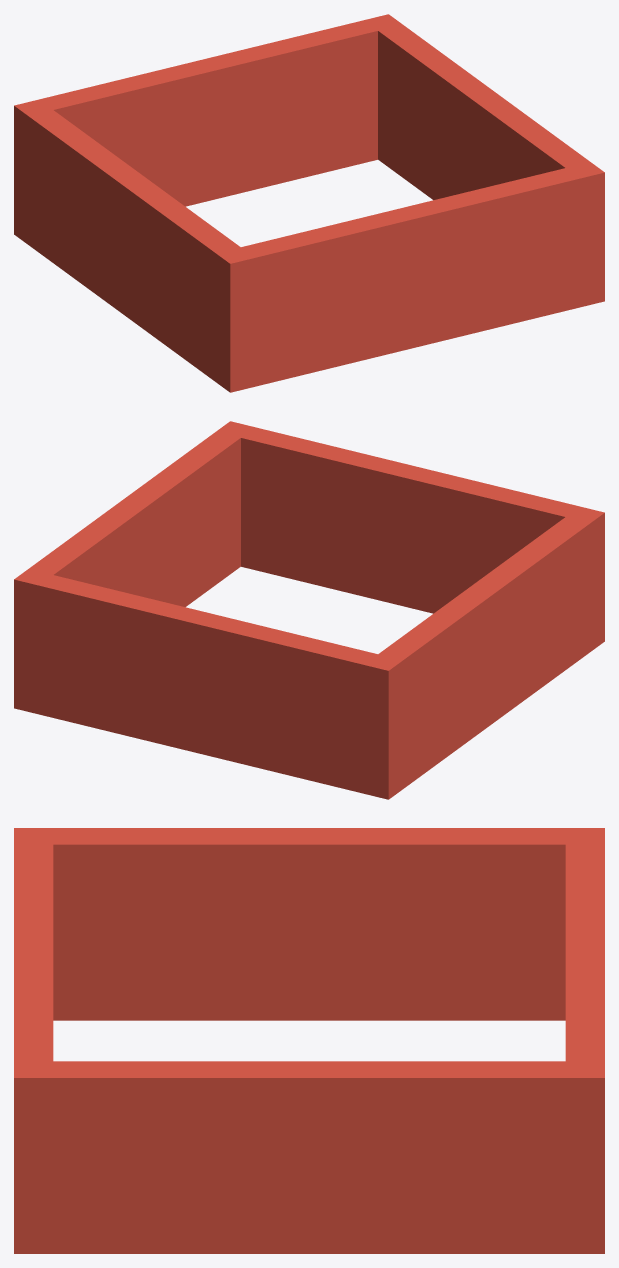
Rendered from pointer_red.obj.
3 renders of one model, top to bottom at view 1: azimuth 30°, elevation 25°; view 2: azimuth 150°, elevation 25°; view 3: azimuth 270°, elevation 25°, orthographic. The views are drawn at different scales.
Parts seen in each view (by area): view 1: Cube.002; view 2: Cube.002; view 3: Cube.002.
Part boxes in pixels (box(x1,y1,x2,y2)): Cube.002: box(14, 14, 604, 392); Cube.002: box(14, 421, 604, 799); Cube.002: box(14, 828, 604, 1253).
Size of the model in its own units: 1.83 by 0.6 by 1.83.
1 material, 1 textured.
